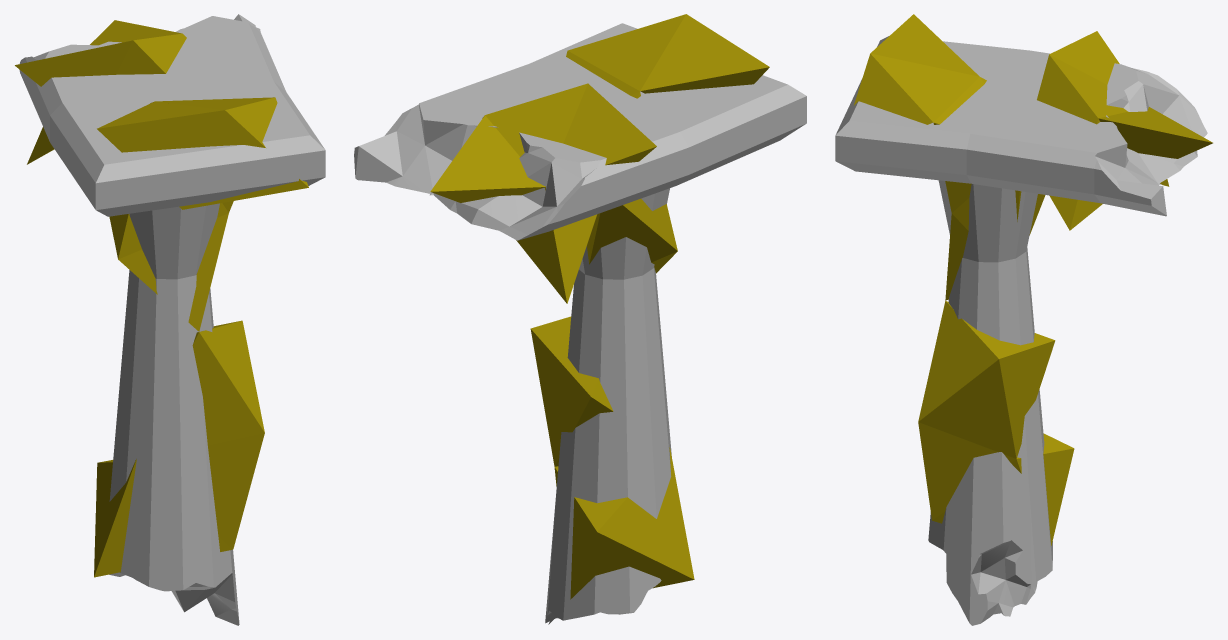
The model's file is SMT_Pillar_Range_12.fbx.
3 views of the same model, side by side, from view 1: azimuth 30°, elevation 25°; view 2: azimuth 150°, elevation 25°; view 3: azimuth 270°, elevation 25° (orthographic). The views are drawn at different scales.
Visible parts, largest first — view 1: SM_Pillar_Range_12, chunk5_13, chunk6_14, chunk2_9, chunk12_0, chunk1_7, chunk14_2, chunk13_1, chunk18_8, chunk15_3, chunk8_16; view 2: SM_Pillar_Range_12, chunk6_14, chunk1_7, chunk15_3, chunk14_2, chunk0_5, chunk12_0, chunk4_12, chunk18_8, chunk16_4, chunk7_15, chunk5_13 (+2 smaller); view 3: SM_Pillar_Range_12, chunk4_12, chunk12_0, chunk5_13, chunk2_9, chunk15_3, chunk18_8, chunk6_14, chunk14_2, chunk0_5, chunk9_17, chunk13_1 (+2 smaller).
Part boxes in pixels (<box>): SM_Pillar_Range_12: <box>19,14,325,625</box>; chunk5_13: <box>135,320,264,461</box>; chunk6_14: <box>97,101,224,209</box>; chunk2_9: <box>135,433,264,548</box>; chunk12_0: <box>155,97,308,209</box>; chunk1_7: <box>94,460,232,577</box>; chunk14_2: <box>15,40,132,86</box>; chunk13_1: <box>118,213,228,331</box>; chunk18_8: <box>117,33,184,74</box>; chunk15_3: <box>90,20,181,45</box>; chunk8_16: <box>109,102,228,259</box>; SM_Pillar_Range_12: <box>354,23,806,624</box>; chunk6_14: <box>640,14,769,93</box>; chunk1_7: <box>555,449,694,579</box>; chunk15_3: <box>430,115,544,202</box>; chunk14_2: <box>545,83,656,186</box>; chunk0_5: <box>554,467,694,599</box>; chunk12_0: <box>568,14,685,90</box>; chunk4_12: <box>530,329,612,466</box>; chunk18_8: <box>485,83,587,186</box>; chunk16_4: <box>516,187,596,303</box>; chunk7_15: <box>587,205,677,264</box>; chunk5_13: <box>531,316,670,448</box>; SM_Pillar_Range_12: <box>835,36,1207,625</box>; chunk4_12: <box>918,340,1055,458</box>; chunk12_0: <box>854,53,979,124</box>; chunk5_13: <box>918,301,1054,421</box>; chunk2_9: <box>918,422,1015,520</box>; chunk15_3: <box>1098,107,1212,158</box>; chunk18_8: <box>1037,54,1127,121</box>; chunk6_14: <box>870,14,979,76</box>; chunk14_2: <box>1049,31,1119,84</box>; chunk0_5: <box>932,448,1074,545</box>; chunk9_17: <box>933,77,984,212</box>; chunk13_1: <box>945,213,968,300</box>.
Size of the model in its own units: 144 by 260 by 164.
